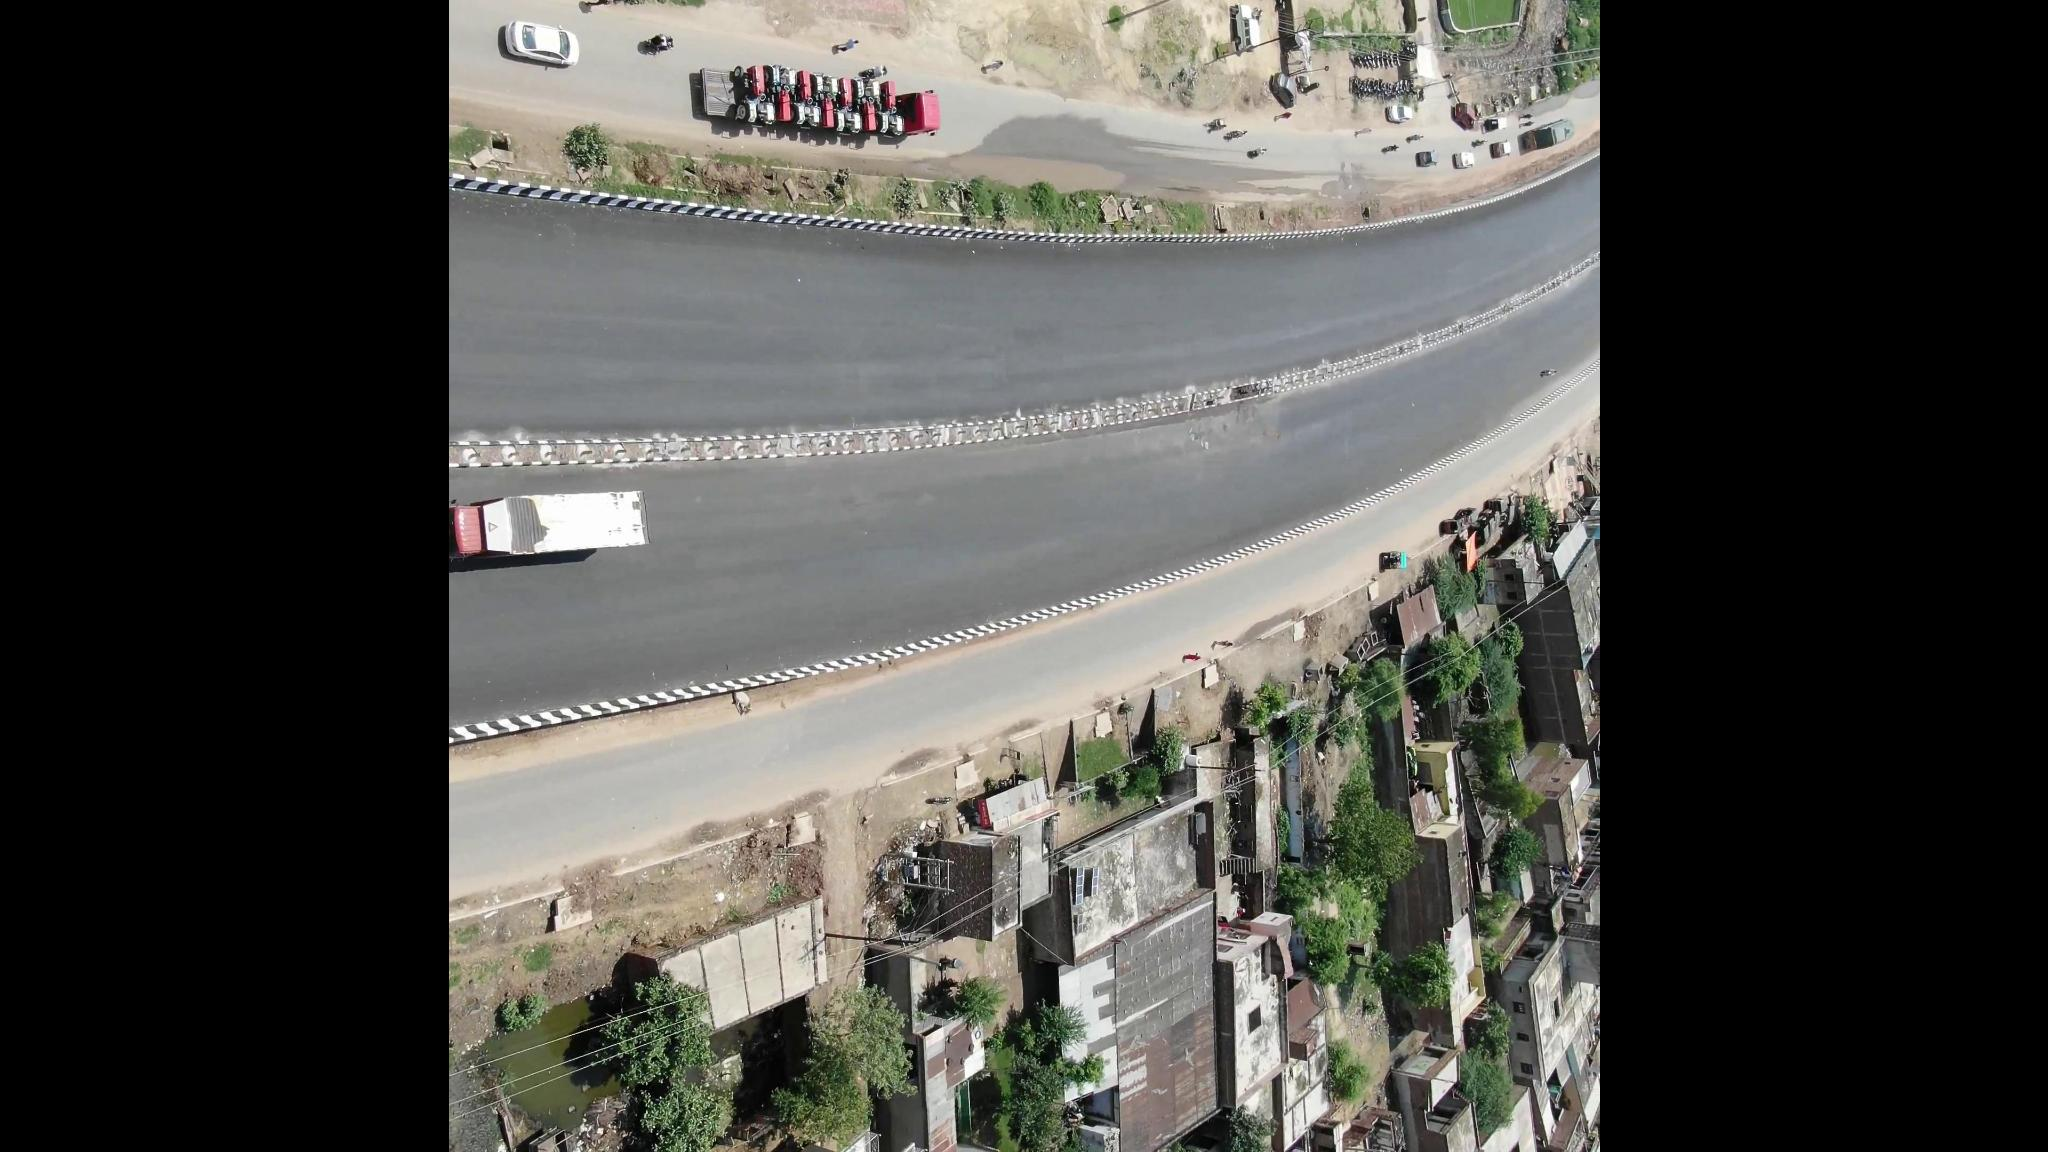Waterlogging: (954, 165, 1127, 198)
